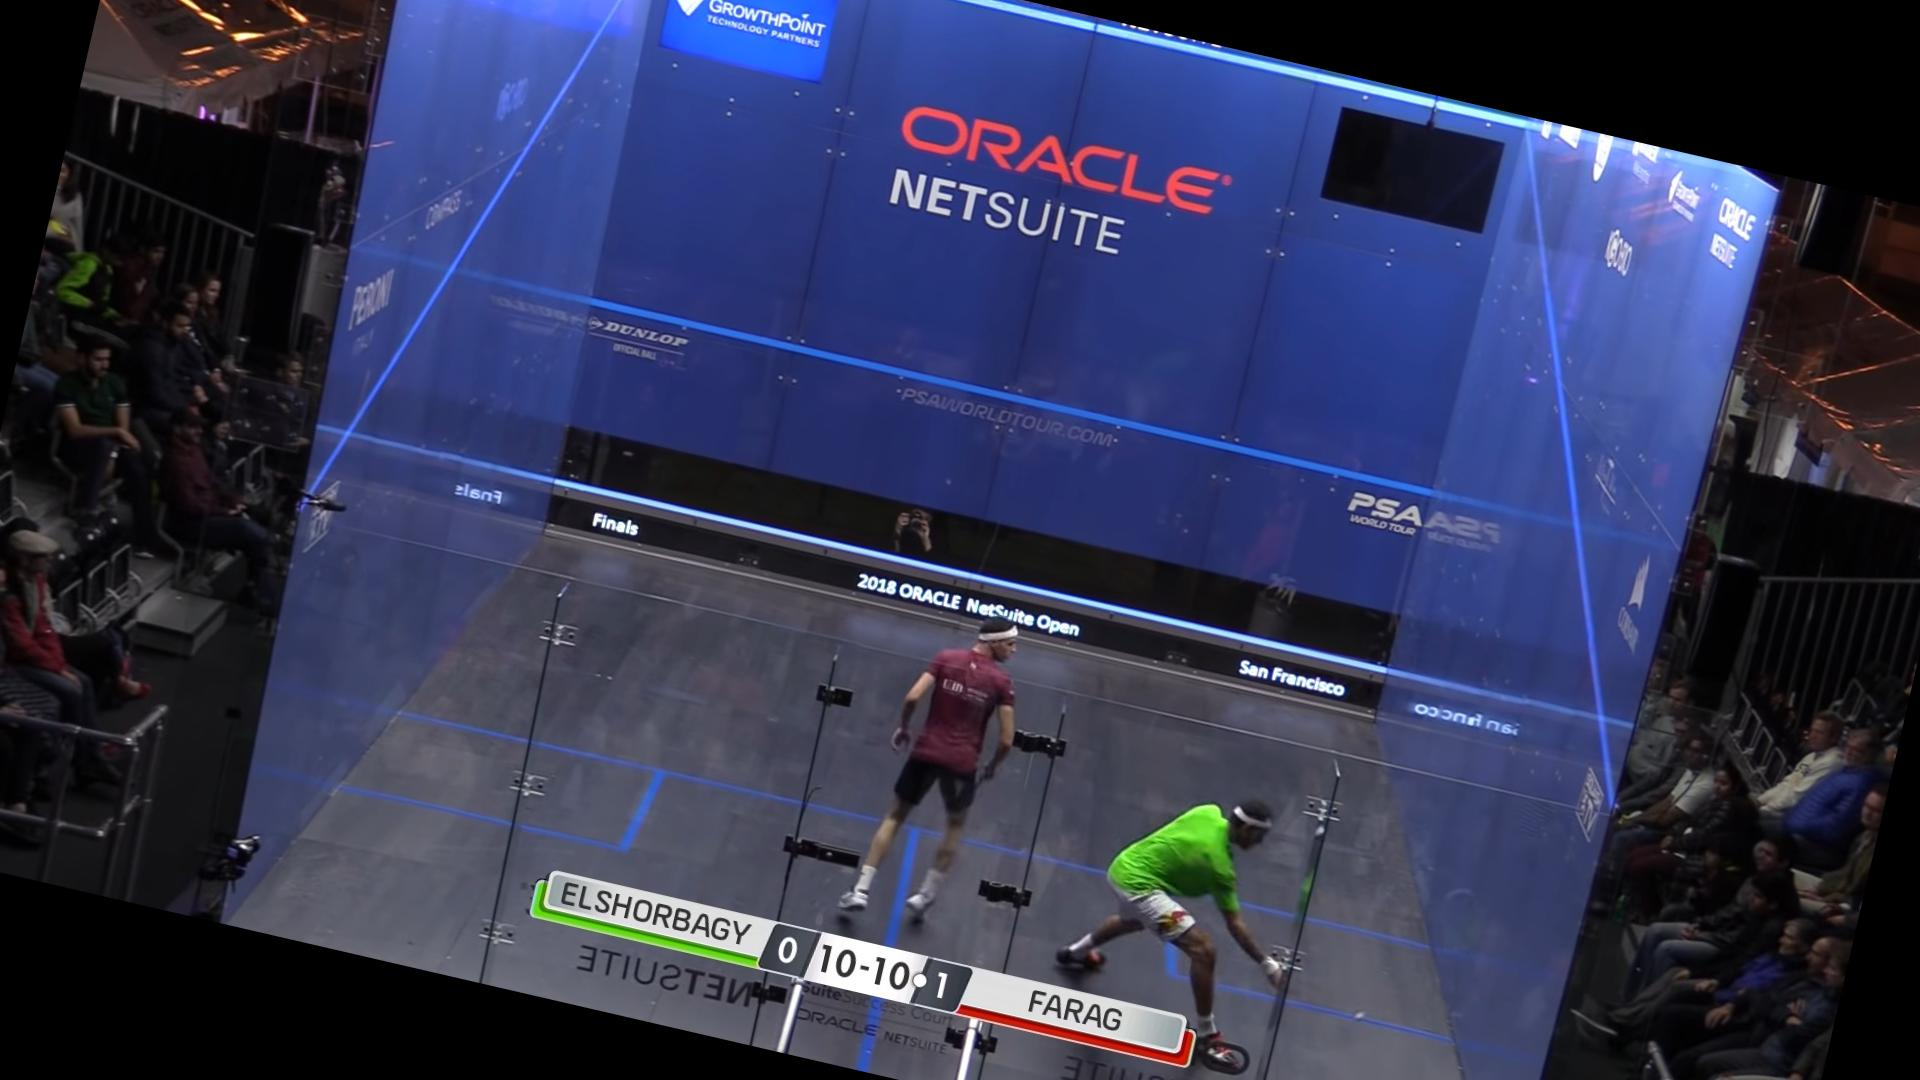Squash-Ball: (1345, 1001, 1374, 1029)
